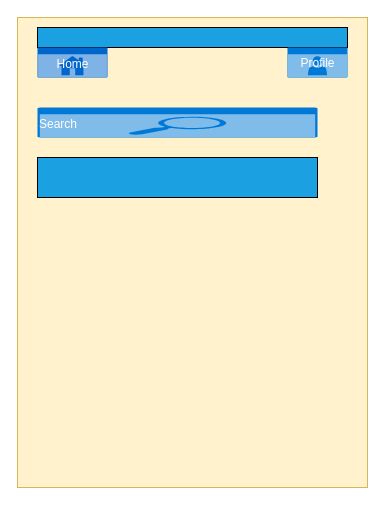
Some shapes in this 385 by 505 pixel diagram are drawn without their labels. Here are the shapes that lost their labels. From the top down, the centre of each, then its label:
[192,37]: Welcome UserName!
[177,177]: Add Ingredients to your pantry
